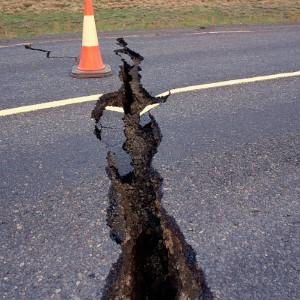traffic cone: (69, 1, 111, 78)
